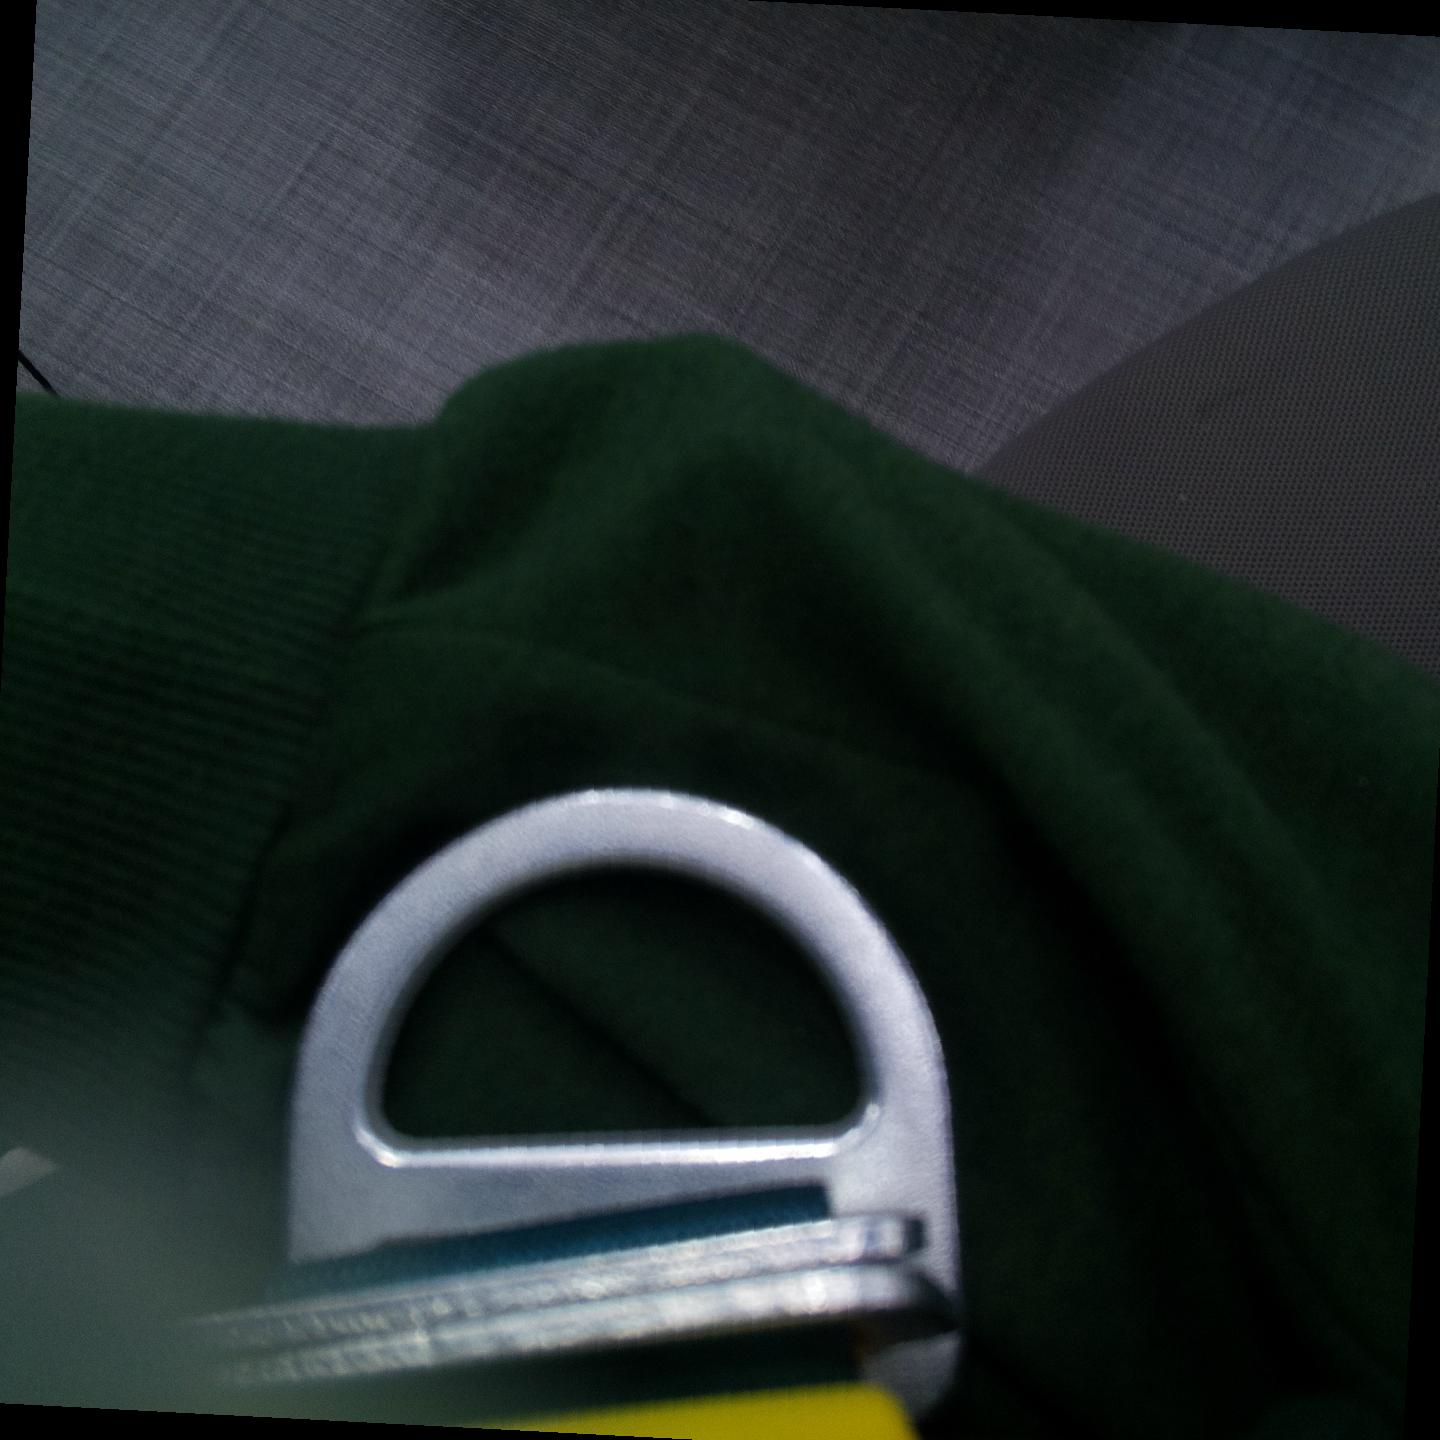UNSUCCESS: (284, 785, 972, 1203)
